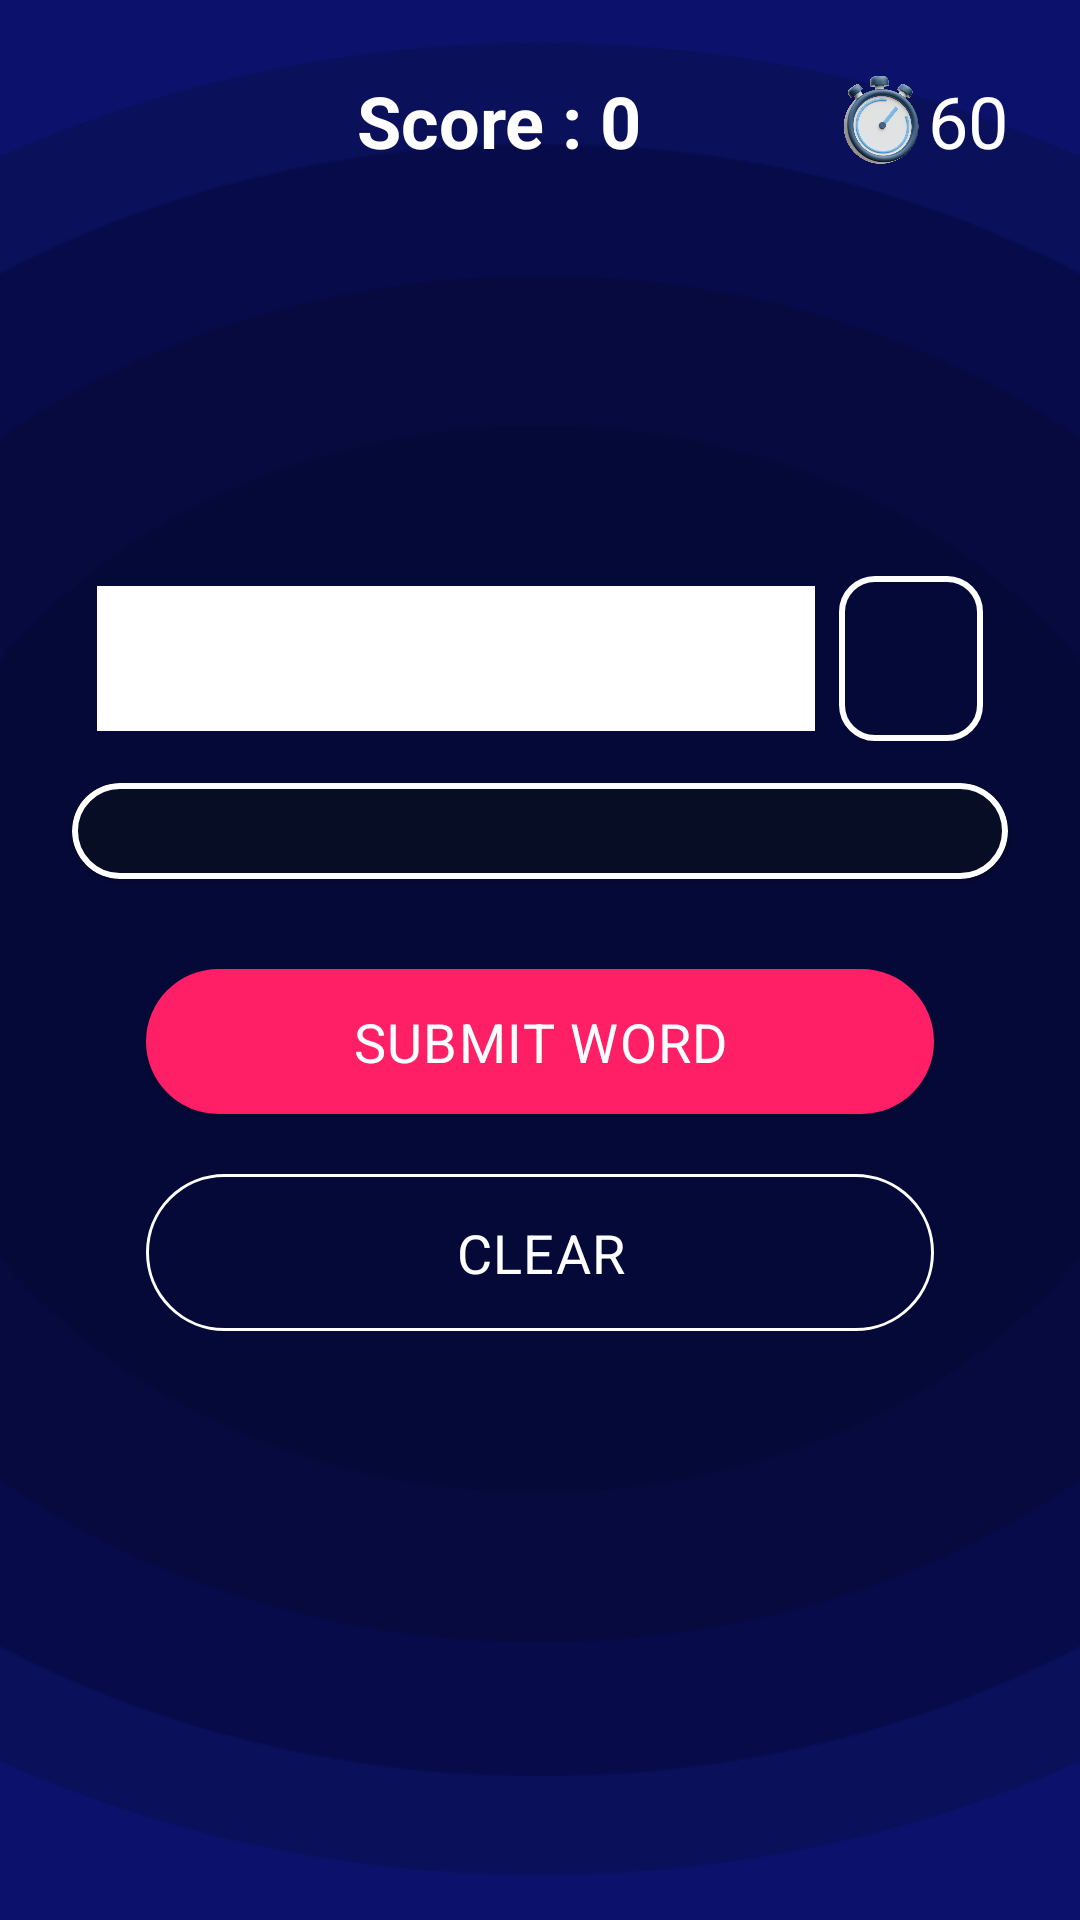

Point at icon controls on the screen. Image size 1080w x 1920h, points as [x,y].
timer: [881,120]
